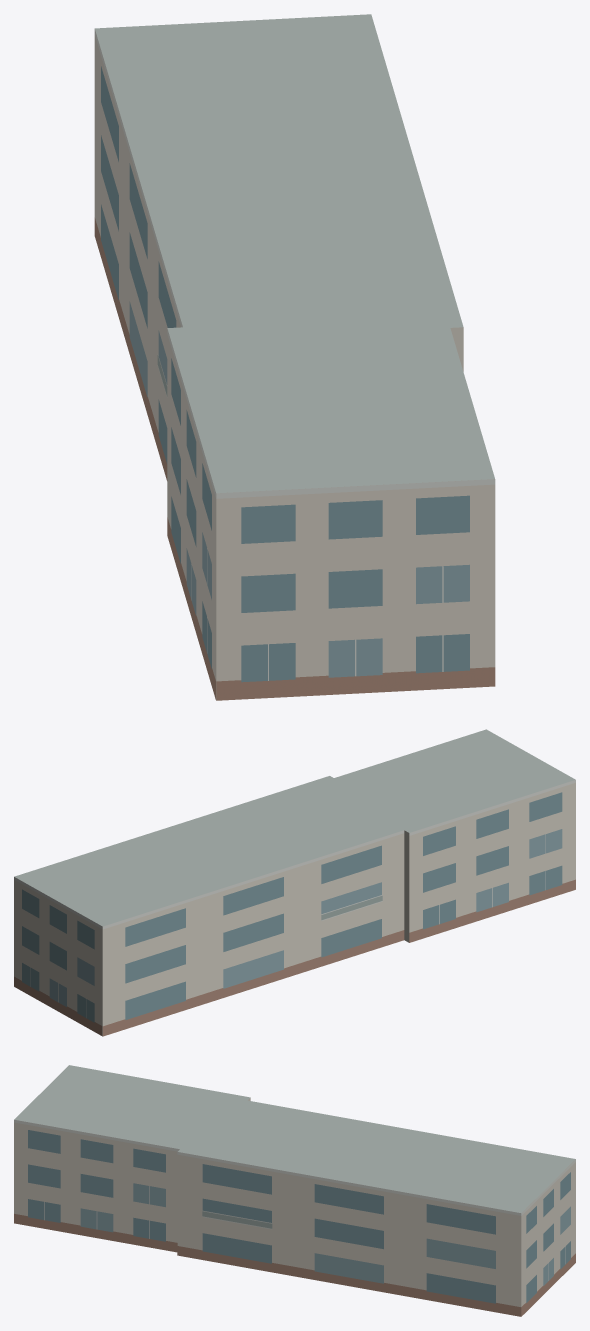
The model's file is survey-upis-32797652.glb.
3 renders of one model, top to bottom at view 1: azimuth 30°, elevation 25°; view 2: azimuth 150°, elevation 25°; view 3: azimuth 270°, elevation 25°, orthographic. The views are drawn at different scales.
Parts seen in each view (by area): view 1: survey-upis-32797652.tmp; view 2: survey-upis-32797652.tmp; view 3: survey-upis-32797652.tmp.
Part boxes in pixels (x1,y1,x2,y2): survey-upis-32797652.tmp: [94, 14, 495, 700]; survey-upis-32797652.tmp: [14, 729, 575, 1036]; survey-upis-32797652.tmp: [14, 1065, 575, 1316].
Size of the model in its own units: 28.05 by 9.15 by 44.95.
